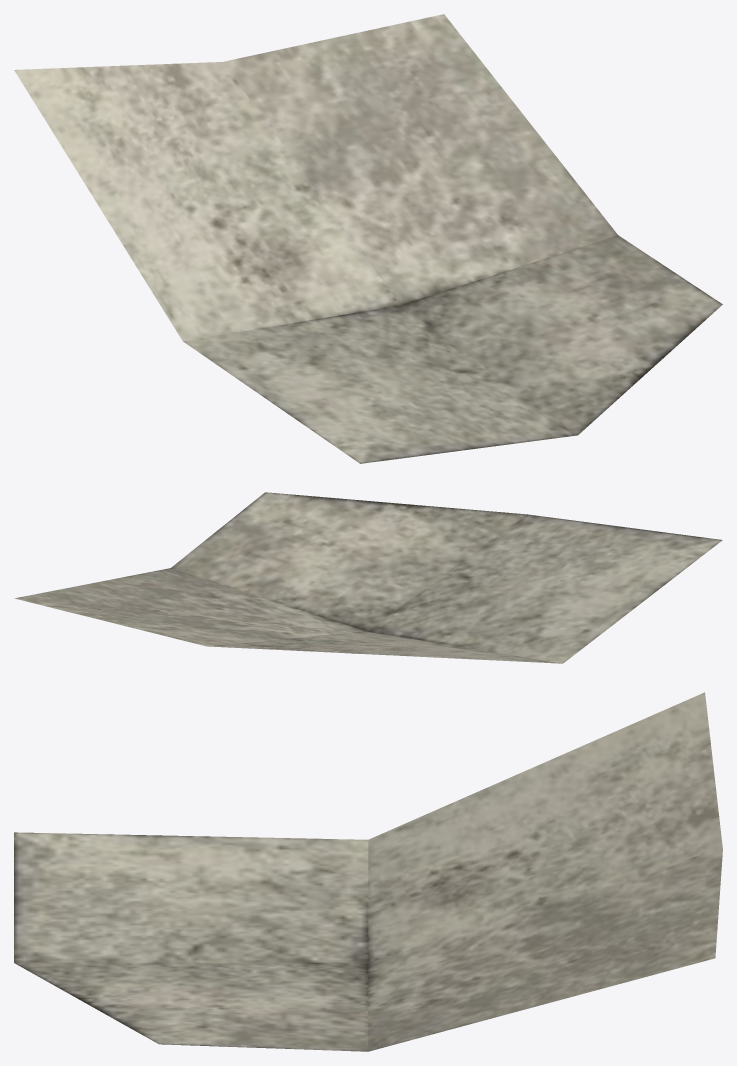
Rendered from prop_paper_scrap.glb.
3 views of the same model, one above another, from view 1: azimuth 30°, elevation 25°; view 2: azimuth 150°, elevation 25°; view 3: azimuth 270°, elevation 25° (orthographic). The views are drawn at different scales.
Parts seen in each view (by area): view 1: Paper_01_GEO_Paper6x_0; view 2: Paper_01_GEO_Paper6x_0; view 3: Paper_01_GEO_Paper6x_0.
Part boxes in pixels (bbox=[...]): Paper_01_GEO_Paper6x_0: bbox=[14, 14, 722, 463]; Paper_01_GEO_Paper6x_0: bbox=[14, 492, 722, 663]; Paper_01_GEO_Paper6x_0: bbox=[14, 692, 722, 1051].
Size of the model in its own units: 0.2625 by 0.0951 by 0.371.
1 material, 1 textured.
